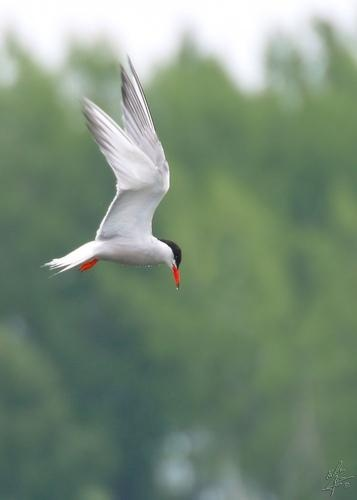bird: (41, 55, 191, 287)
